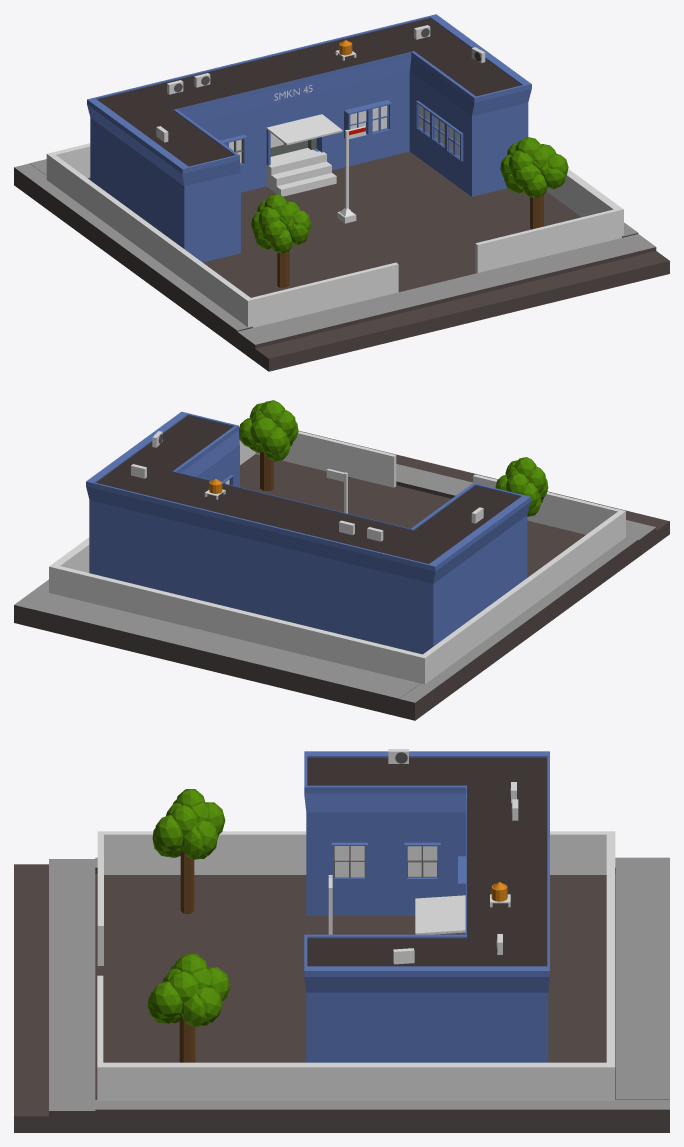
File: school asset.fbx
The picture shows the model from 3 angles, top to bottom: view 1: azimuth 30°, elevation 25°; view 2: azimuth 150°, elevation 25°; view 3: azimuth 270°, elevation 25°; orthographic projection. The views are drawn at different scales.
Visible parts, largest first — view 1: Cube, Plane, Cube.008, Cylinder.002, Cylinder.001, Cube.007; view 2: Cube, Plane, Cube.008, Cylinder.002, Cylinder.001; view 3: Plane, Cube, Cube.008, Cylinder.002, Cylinder.001.
Boxes of the visible parts, left/top/right/bottom form: Cube: left=87, top=14, right=531, bottom=262; Plane: left=14, top=151, right=669, bottom=371; Cube.008: left=46, top=143, right=623, bottom=327; Cylinder.002: left=500, top=137, right=568, bottom=229; Cylinder.001: left=251, top=194, right=310, bottom=287; Cube.007: left=337, top=126, right=365, bottom=223; Cube: left=86, top=411, right=530, bottom=654; Plane: left=14, top=431, right=669, bottom=720; Cube.008: left=49, top=427, right=625, bottom=684; Cylinder.002: left=239, top=400, right=298, bottom=490; Cylinder.001: left=495, top=457, right=548, bottom=516; Plane: left=14, top=857, right=669, bottom=1132; Cube: left=304, top=751, right=549, bottom=1062; Cube.008: left=97, top=831, right=615, bottom=1100; Cylinder.002: left=148, top=954, right=230, bottom=1062; Cylinder.001: left=152, top=789, right=225, bottom=913.
Bounding box in the file's own units: 28606 × 8764 × 31474.
